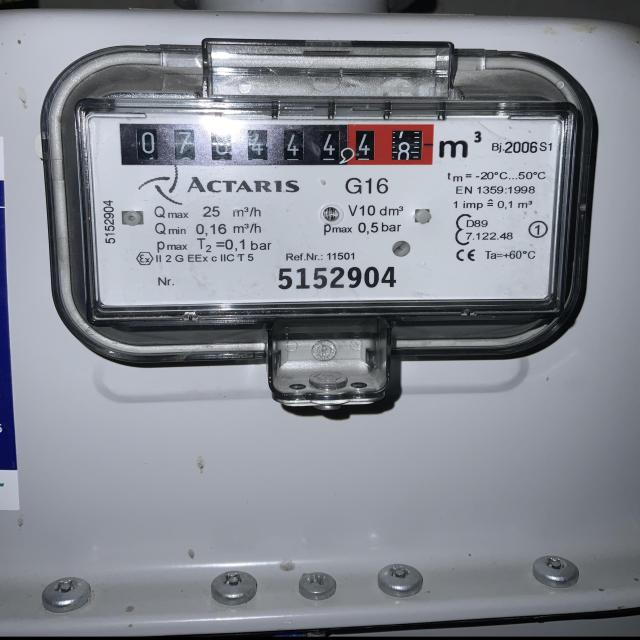gaz_meter: (88, 118, 554, 302)
indication: (121, 121, 437, 169)
